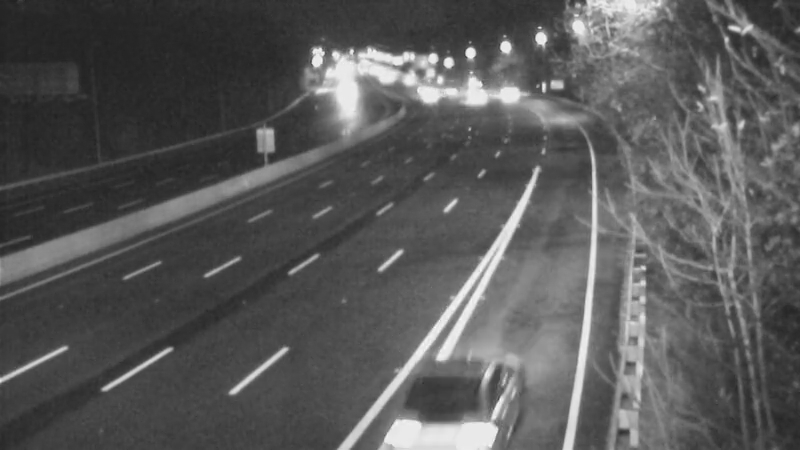vehicle: (380, 356, 490, 450), (428, 66, 478, 116), (484, 70, 534, 120), (407, 71, 457, 121), (448, 76, 498, 126)
